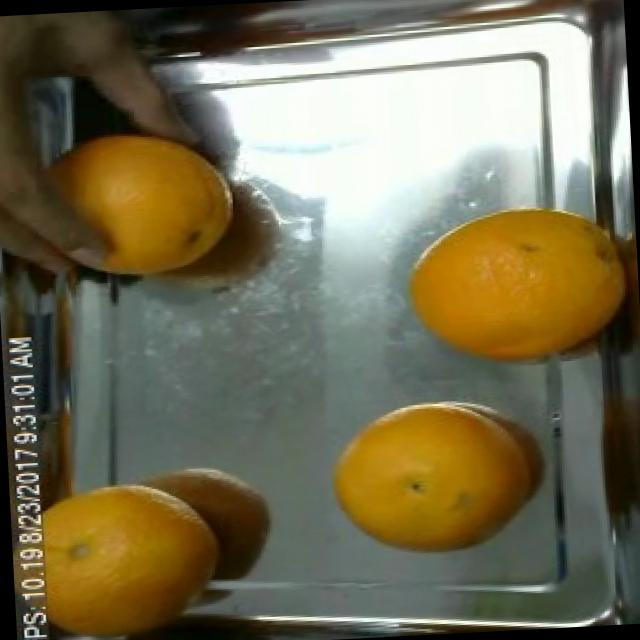Fruit: (312, 389, 538, 572), (18, 472, 253, 640)
